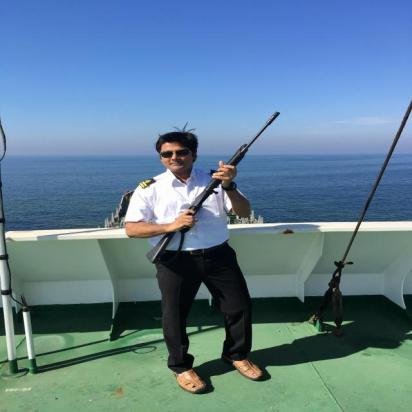Gun: (145, 110, 281, 265)
